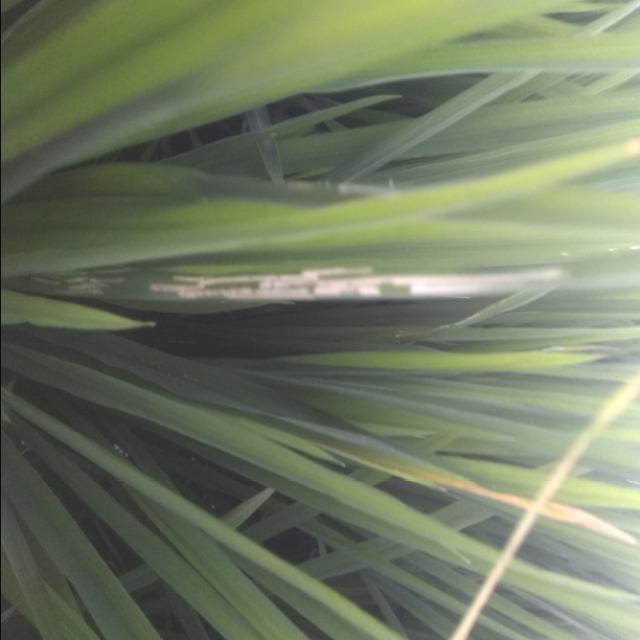Hawar Daun Bakteri: (403, 354, 640, 640), (366, 438, 640, 568)
Penggulung Daun: (18, 253, 584, 334)
